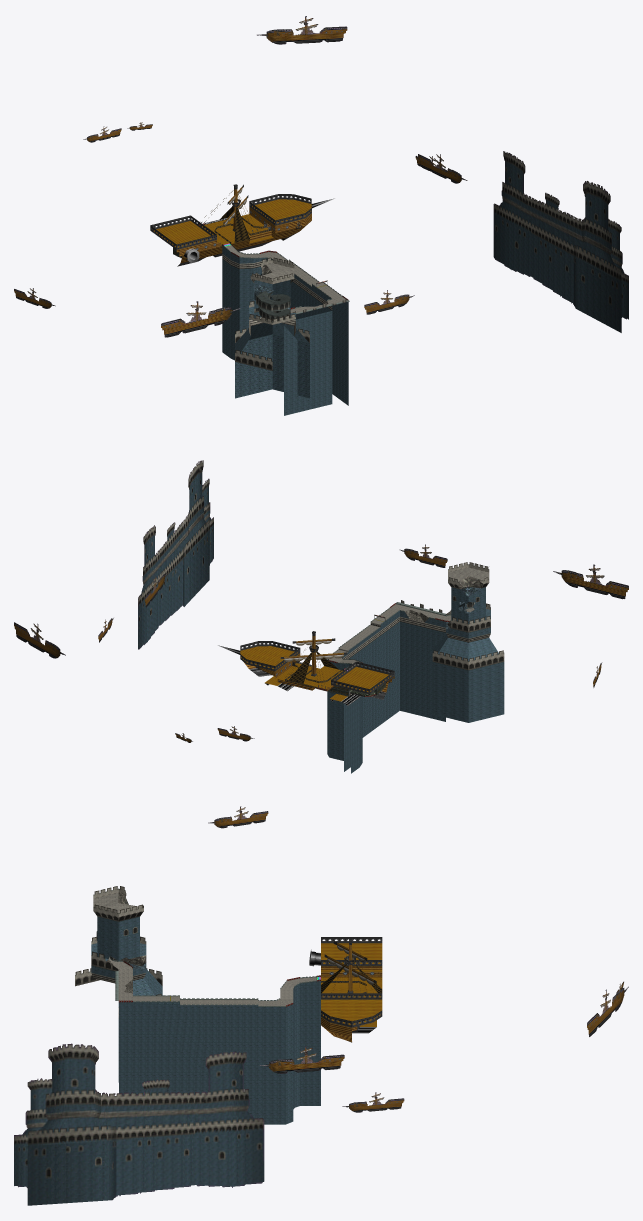
Rendered from airship_course.obj.
3 renders of one model, top to bottom at view 1: azimuth 30°, elevation 25°; view 2: azimuth 150°, elevation 25°; view 3: azimuth 270°, elevation 25°, orthographic. The views are drawn at different scales.
Parts seen in each view (by area): view 1: polygon2, polygon22, polygon5, polygon21, polygon16, polygon10, polygon12, polygon23, polygon19, polygon14; view 2: polygon22, polygon2, polygon5, polygon21, polygon16, polygon10, polygon23, polygon14, polygon12, polygon11; view 3: polygon2, polygon22, polygon5, polygon21, polygon23, polygon16, polygon10, polygon12, polygon8.
Part boxes in pixels (x1=…): polygon2: x1=493, y1=151, x2=628, y2=332; polygon22: x1=222, y1=245, x2=348, y2=415; polygon5: x1=14, y1=16, x2=467, y2=337; polygon21: x1=154, y1=199, x2=311, y2=247; polygon16: x1=150, y1=184, x2=311, y2=266; polygon10: x1=235, y1=257, x2=346, y2=370; polygon12: x1=176, y1=187, x2=311, y2=263; polygon23: x1=225, y1=245, x2=347, y2=312; polygon19: x1=256, y1=291, x2=349, y2=322; polygon14: x1=222, y1=189, x2=332, y2=335; polygon22: x1=327, y1=587, x2=504, y2=773; polygon2: x1=138, y1=460, x2=213, y2=649; polygon5: x1=14, y1=544, x2=628, y2=742; polygon21: x1=240, y1=646, x2=391, y2=701; polygon16: x1=240, y1=631, x2=394, y2=705; polygon10: x1=401, y1=562, x2=504, y2=670; polygon23: x1=329, y1=567, x2=489, y2=671; polygon14: x1=257, y1=596, x2=490, y2=693; polygon12: x1=244, y1=635, x2=394, y2=692; polygon11: x1=405, y1=576, x2=483, y2=627; polygon2: x1=14, y1=1043, x2=264, y2=1205; polygon22: x1=91, y1=916, x2=320, y2=1124; polygon5: x1=208, y1=806, x2=628, y2=1112; polygon21: x1=321, y1=943, x2=382, y2=1026; polygon23: x1=93, y1=892, x2=316, y2=1006; polygon16: x1=321, y1=937, x2=382, y2=1042; polygon10: x1=75, y1=886, x2=162, y2=1017; polygon12: x1=321, y1=943, x2=382, y2=1041; polygon8: x1=133, y1=950, x2=381, y2=1006.
Size of the model in its own units: 973 by 361 by 878.
Materials: 24 (24 with a texture image).
